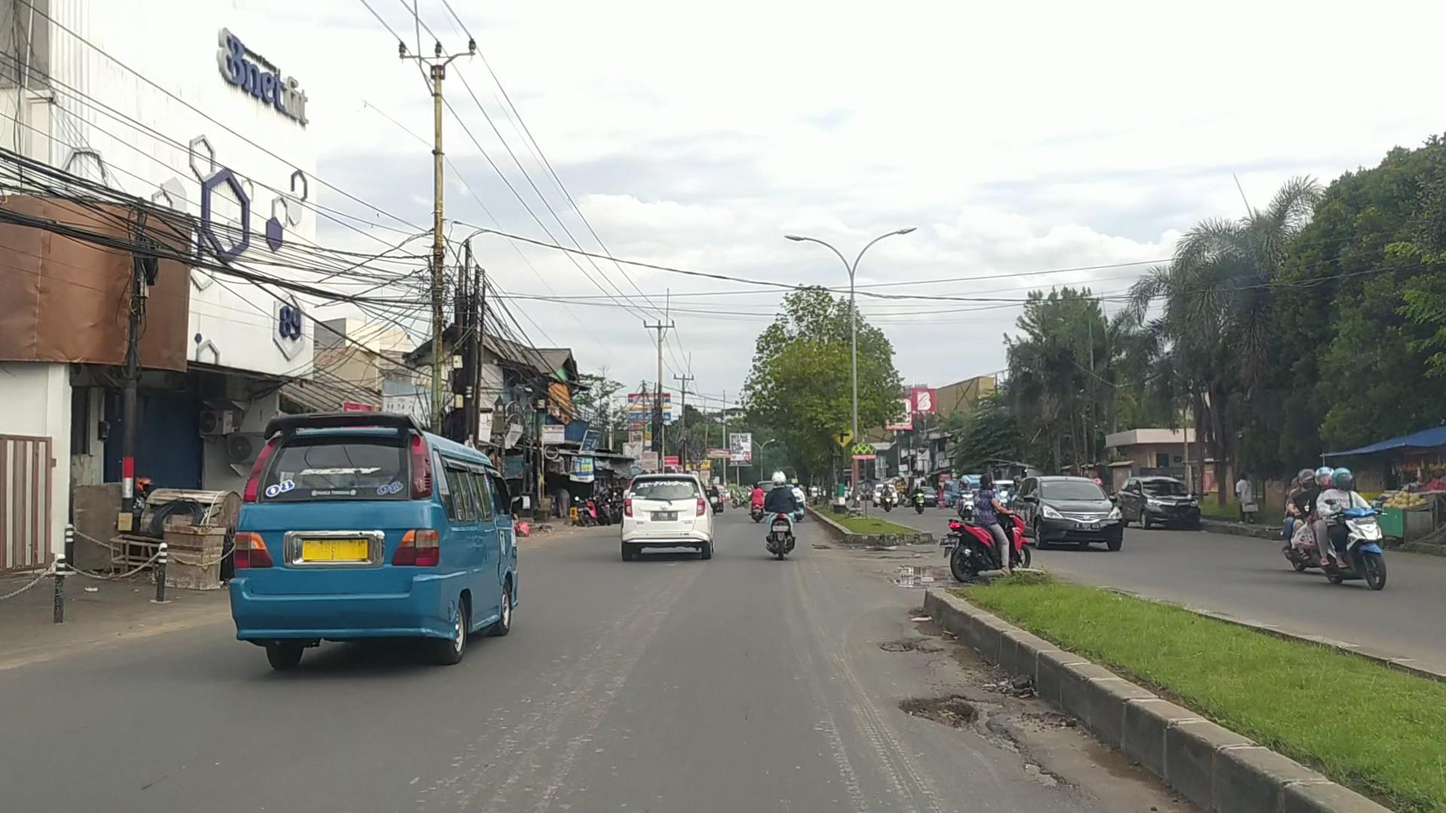pothole: (896, 693, 1029, 759), (877, 636, 945, 654)
